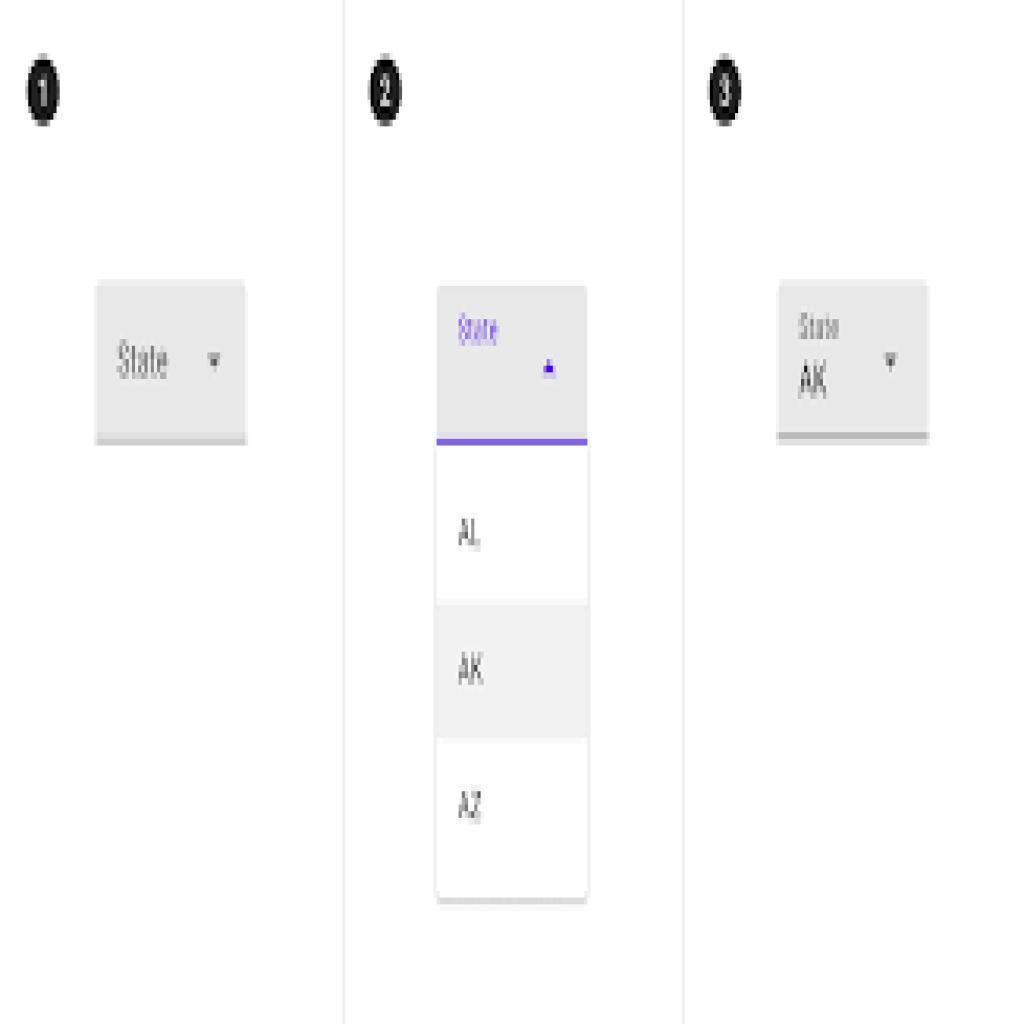dropdown: (434, 284, 590, 446), (94, 282, 247, 447), (777, 281, 931, 444)
